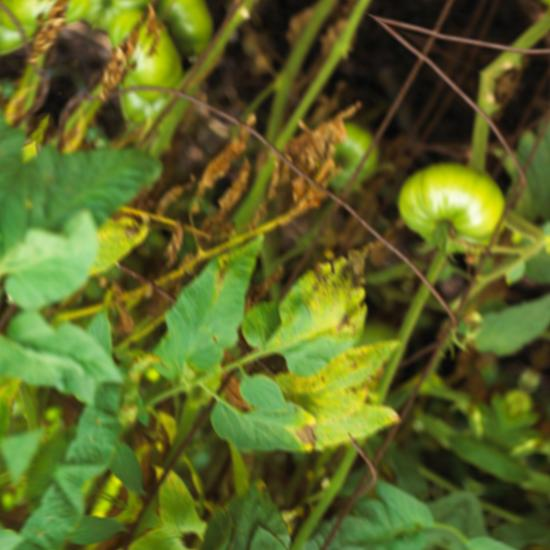Tomato Septoria leaf spot: (257, 224, 402, 392), (260, 294, 404, 451), (268, 356, 414, 495)
